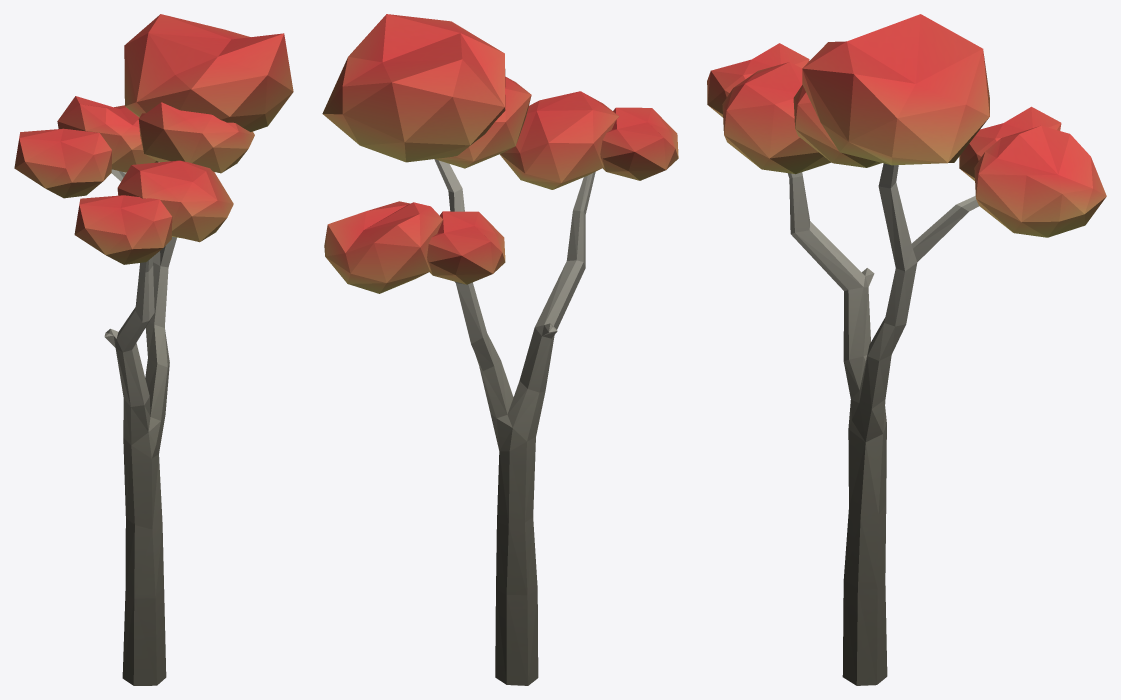
The model's file is ZLP_Plant_E_4.FBX.
3 views of the same model, side by side, from view 1: azimuth 30°, elevation 25°; view 2: azimuth 150°, elevation 25°; view 3: azimuth 270°, elevation 25° (orthographic). The views are drawn at different scales.
Visible parts, largest first — view 1: ZLP_Plant_E_4; view 2: ZLP_Plant_E_4; view 3: ZLP_Plant_E_4.
Part boxes in pixels (box(x1,y1,x2,y2)): ZLP_Plant_E_4: box(14, 14, 293, 685); ZLP_Plant_E_4: box(322, 14, 678, 685); ZLP_Plant_E_4: box(707, 14, 1106, 685).
Size of the model in its own units: 306 by 682 by 365.
